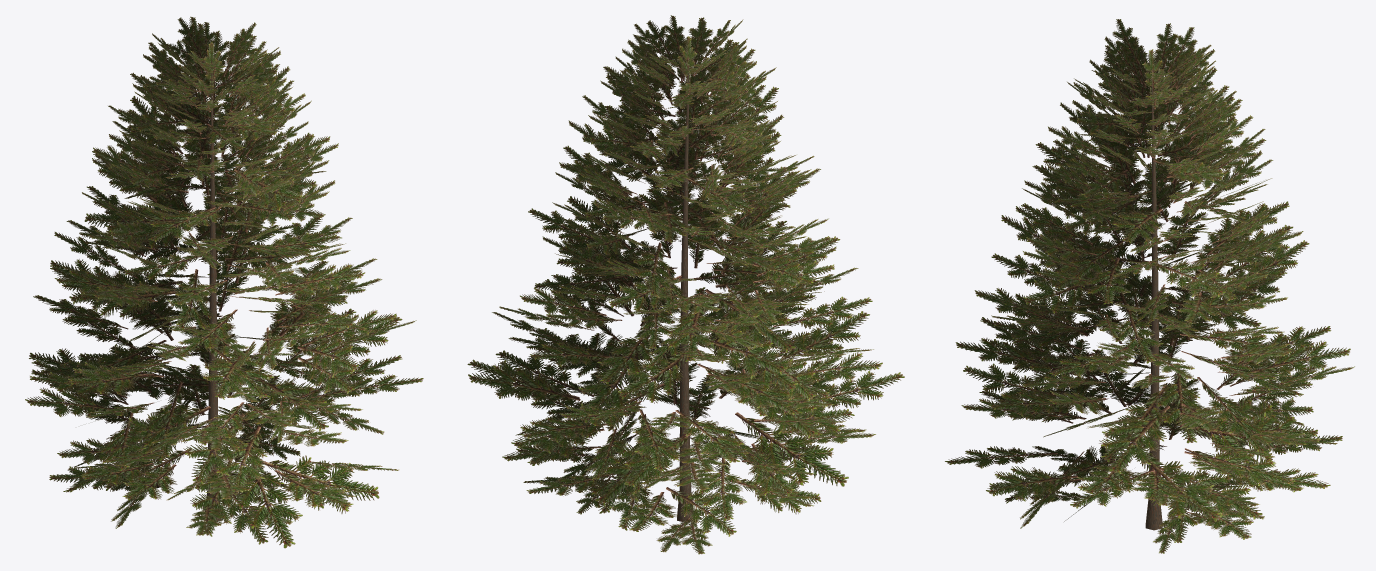
File: fir_small_a_lod2.gltf
The picture shows the model from 3 angles, left to right: view 1: azimuth 30°, elevation 25°; view 2: azimuth 150°, elevation 25°; view 3: azimuth 270°, elevation 25°; orthographic projection.
Parts seen in each view (by area): view 1: fir_small_a_LOD2; view 2: fir_small_a_LOD2; view 3: fir_small_a_LOD2.
Boxes of the visible parts, box(x1,y1,x2,y2) form: fir_small_a_LOD2: box(25, 16, 423, 548); fir_small_a_LOD2: box(467, 15, 904, 554); fir_small_a_LOD2: box(945, 19, 1354, 553).
Bounding box in the file's own units: 9.14 × 11.74 × 9.15.
Materials: 2 (2 with a texture image).
